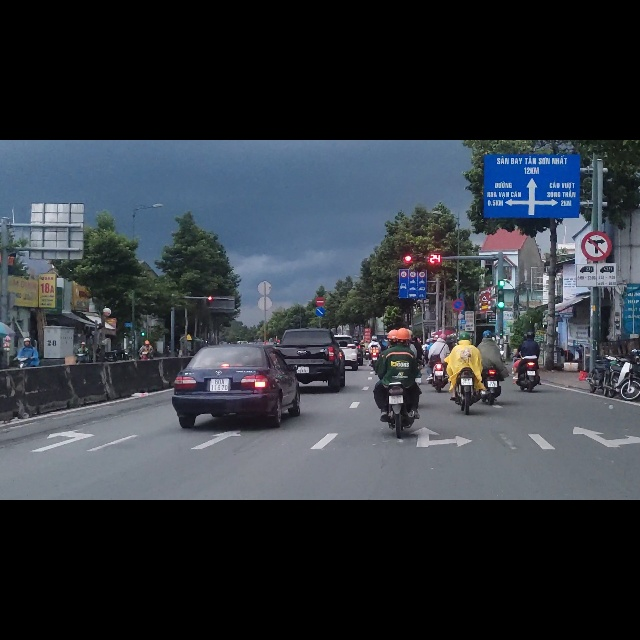bien_hieu_lenh: (581, 162, 613, 215), (399, 245, 426, 282), (452, 283, 464, 303), (316, 297, 325, 313), (316, 280, 325, 295), (409, 232, 416, 245), (400, 233, 407, 244), (419, 233, 425, 244)
